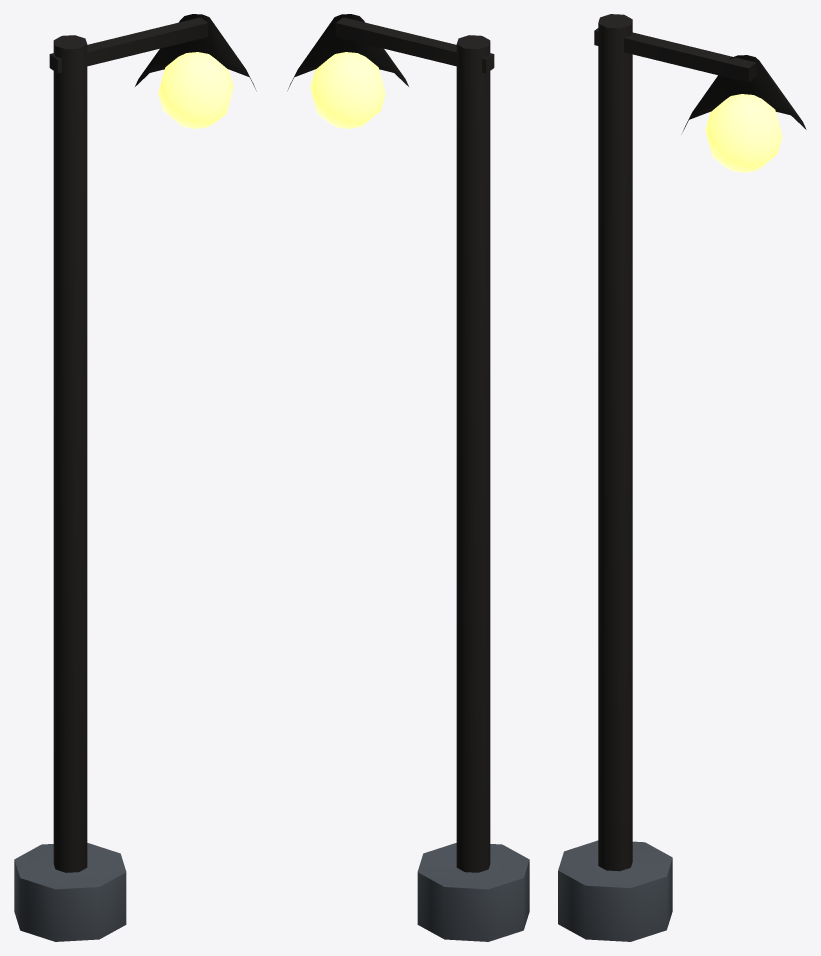
The model's file is prop.honey_lamp_post.glb.
3 renders of one model, left to right at view 1: azimuth 30°, elevation 25°; view 2: azimuth 150°, elevation 25°; view 3: azimuth 330°, elevation 25°, orthographic. The views are drawn at different scales.
Visible parts, largest first — view 1: honey_lamp_post; view 2: honey_lamp_post; view 3: honey_lamp_post.
Part boxes in pixels (x1,y1,x2,y2): honey_lamp_post: (14,14,256,941); honey_lamp_post: (287,14,529,941); honey_lamp_post: (558,14,806,941).
Bounding box in the file's own units: 1.37 × 5 × 0.6086.
